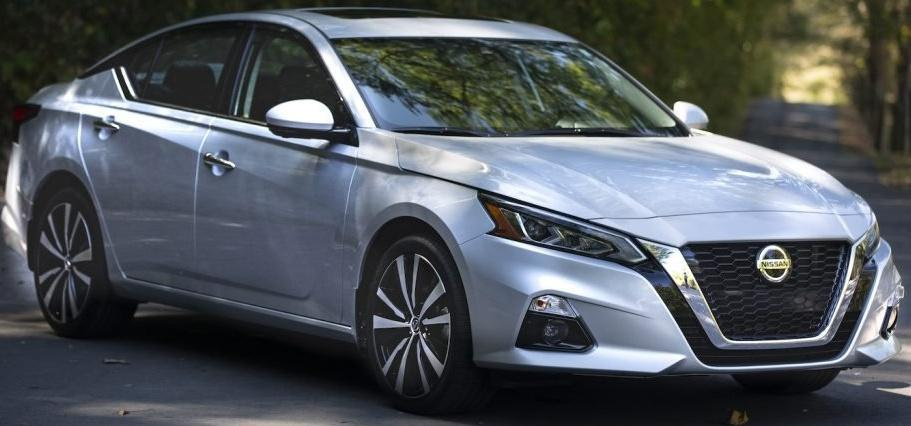Cars: (3, 10, 905, 414)
